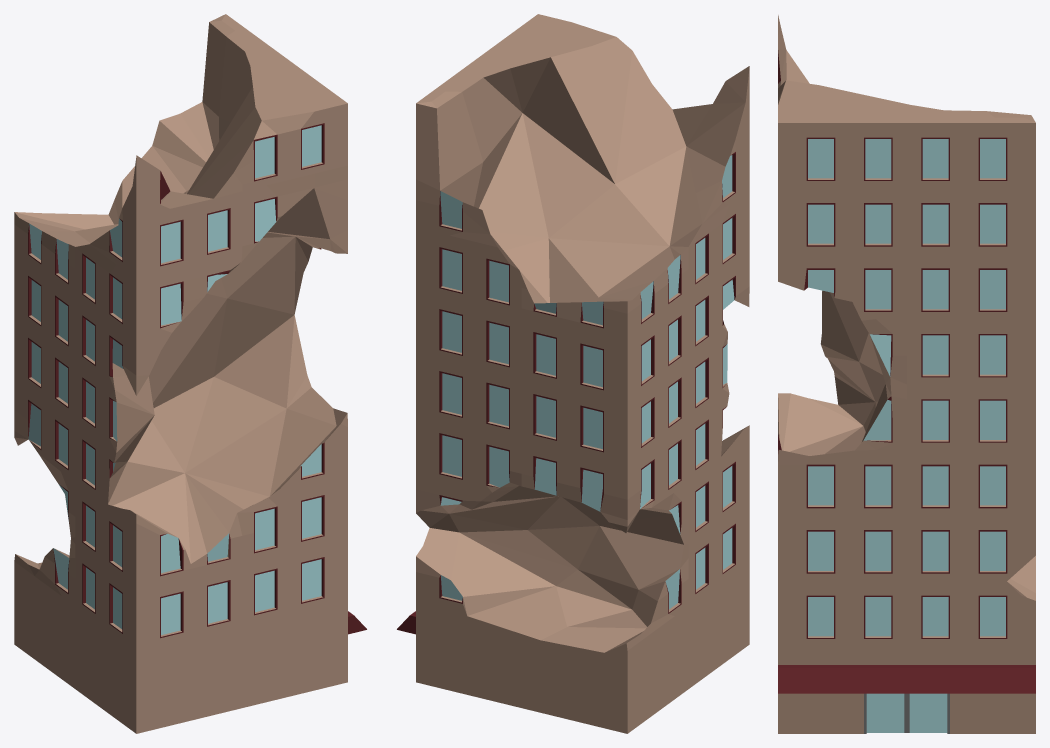
The picture shows the model from 3 angles, left to right: view 1: azimuth 30°, elevation 25°; view 2: azimuth 150°, elevation 25°; view 3: azimuth 270°, elevation 25°; orthographic projection. The views are drawn at different scales.
Parts seen in each view (by area): view 1: Cube.020; view 2: Cube.020; view 3: Cube.020.
Part boxes in pixels (x1,y1,x2,y2): Cube.020: (14, 14, 366, 733); Cube.020: (397, 14, 749, 733); Cube.020: (778, 15, 1035, 733).
Size of the model in its own units: 2185 by 5229 by 2000.
